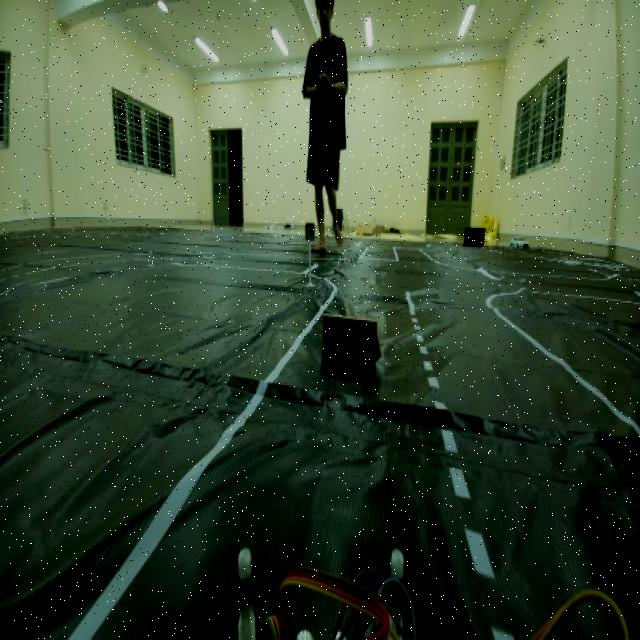roadblock: (319, 310, 385, 390)
